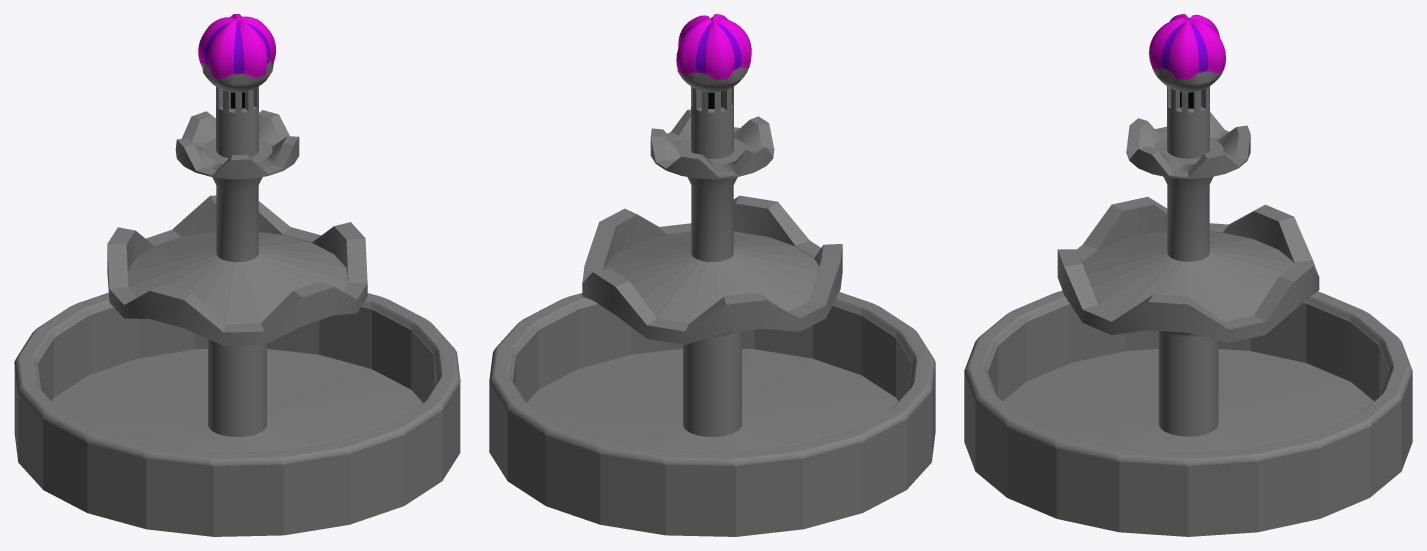
The model's file is fount.fbx.
3 views of the same model, side by side, from view 1: azimuth 30°, elevation 25°; view 2: azimuth 150°, elevation 25°; view 3: azimuth 270°, elevation 25° (orthographic).
Parts seen in each view (by area): view 1: pCylinder2; view 2: pCylinder2; view 3: pCylinder2.
Boxes of the visible parts, box(x1,y1,x2,y2) form: pCylinder2: box(14, 14, 460, 536); pCylinder2: box(489, 14, 935, 536); pCylinder2: box(964, 14, 1412, 536).
Size of the model in its own units: 11.35 by 11.85 by 11.35.
